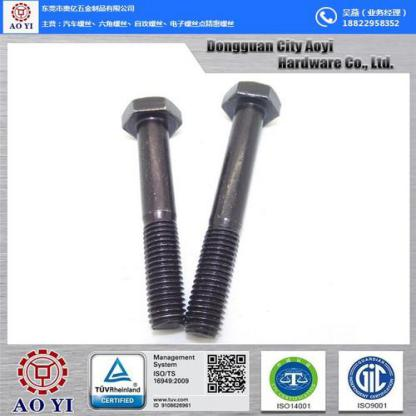FOD: (184, 80, 282, 338), (116, 94, 186, 331)
